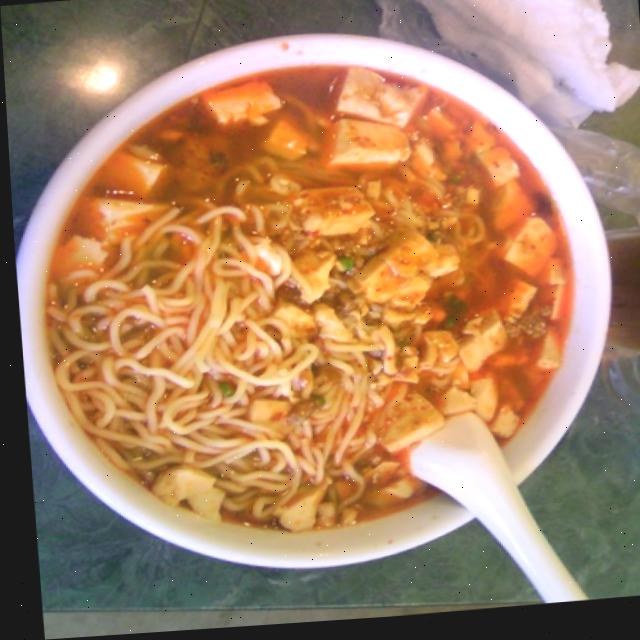面条主食: (2, 13, 630, 590)
